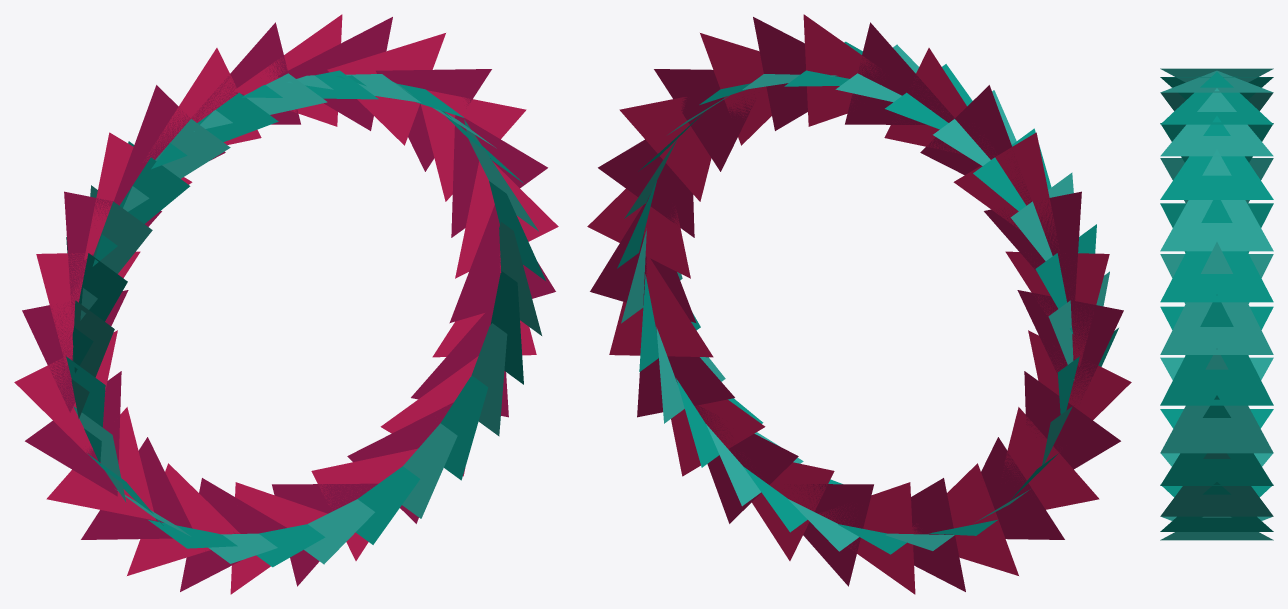
The model's file is portal.glb.
The picture shows the model from 3 angles, left to right: view 1: azimuth 30°, elevation 25°; view 2: azimuth 150°, elevation 25°; view 3: azimuth 270°, elevation 25°; orthographic projection. The views are drawn at different scales.
Parts seen in each view (by area): view 1: Polygon_17_2, Polygon_2_2, Polygon_5_2, Polygon_18_2, Polygon_3_2, Polygon_0_2, Polygon_19_2, Polygon_16_2, Polygon_15_2, Polygon_6_2, Polygon_1_2, Polygon_13_2 (+40 smaller); view 2: Polygon_14_2, Polygon_8_2, Polygon_4_2, Polygon_3_2, Polygon_17_2, Polygon_18_2, Polygon_27_2, Polygon_11_2, Polygon_19_2, Polygon_7_2, Polygon_21_2, Polygon_12_2 (+34 smaller); view 3: Polygon_1, Polygon_2, Polygon_3, Polygon_4, Polygon_0, Polygon_5, Polygon_27, Polygon_6, Polygon_26, Polygon_7, Polygon_25, Polygon_8 (+13 smaller).
Boxes of the visible parts, box(x1,y1,x2,y2) form: Polygon_17_2: box(46, 407, 156, 520); Polygon_2_2: box(451, 115, 547, 237); Polygon_5_2: box(327, 33, 445, 145); Polygon_18_2: box(81, 437, 192, 539); Polygon_3_2: box(420, 90, 526, 201); Polygon_0_2: box(449, 205, 555, 323); Polygon_19_2: box(127, 463, 240, 575); Polygon_16_2: box(25, 371, 121, 496); Polygon_15_2: box(14, 330, 117, 455); Polygon_6_2: box(278, 17, 392, 130); Polygon_1_2: box(455, 161, 558, 278); Polygon_13_2: box(36, 251, 140, 366); Polygon_14_2: box(1017, 290, 1123, 405); Polygon_8_2: box(845, 22, 960, 124); Polygon_4_2: box(654, 69, 755, 171); Polygon_3_2: box(619, 97, 711, 201); Polygon_17_2: box(1002, 407, 1099, 509); Polygon_18_2: box(981, 437, 1064, 539); Polygon_27_2: box(609, 256, 713, 357); Polygon_11_2: box(953, 132, 1059, 254); Polygon_19_2: box(912, 463, 1018, 575); Polygon_7_2: box(803, 14, 883, 126); Polygon_21_2: box(818, 482, 915, 594); Polygon_12_2: box(984, 191, 1081, 310); Polygon_1: box(1160, 294, 1273, 405); Polygon_2: box(1160, 242, 1273, 354); Polygon_3: box(1160, 200, 1273, 302); Polygon_4: box(1160, 149, 1273, 251); Polygon_0: box(1160, 348, 1273, 453); Polygon_5: box(1160, 116, 1273, 199); Polygon_27: box(1160, 395, 1273, 485); Polygon_6: box(1160, 88, 1273, 156); Polygon_26: box(1160, 453, 1273, 516); Polygon_7: box(1160, 72, 1273, 124); Polygon_25: box(1160, 482, 1273, 531); Polygon_8: box(1160, 70, 1273, 92).
Size of the model in its own units: 5.1 by 5.1 by 1.
1 material, 1 textured.
